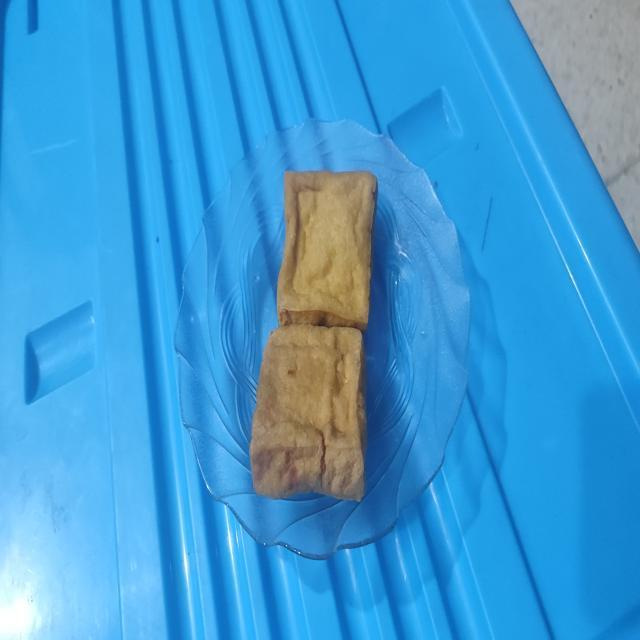tahu_goreng: (250, 322, 366, 501), (277, 170, 377, 332)
